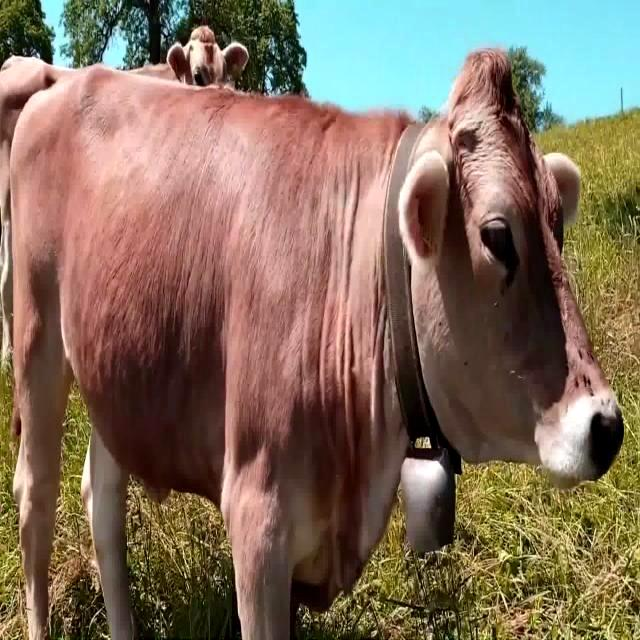COW: (11, 50, 621, 640)
